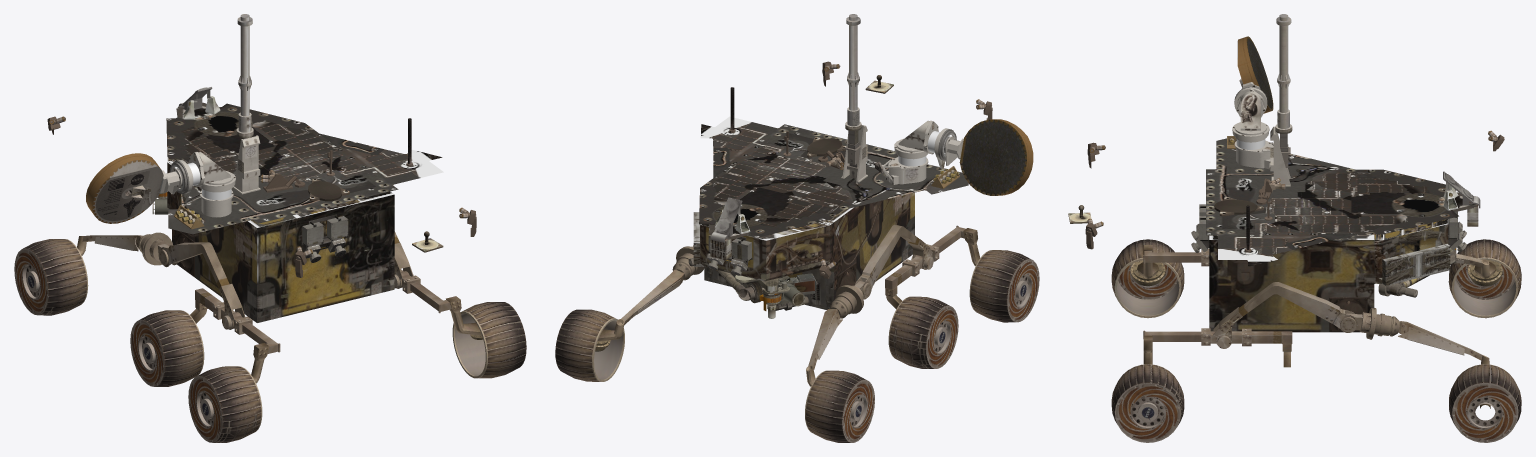
Rendered from mer-frame.glb.
3 renders of one model, left to right at view 1: azimuth 30°, elevation 25°; view 2: azimuth 150°, elevation 25°; view 3: azimuth 270°, elevation 25°, orthographic. The views are drawn at different scales.
Visible parts, largest first — view 1: Cube000_3, object 3, object 1; view 2: Cube000_3, object 3, object 1, Cube000_8; view 3: Cube000_3, object 3, object 1, Cube000_8.
Boxes of the visible parts, x1=… form: Cube000_3: x1=166, y1=102, x2=443, y2=322; object 3: x1=14, y1=230, x2=526, y2=442; object 1: x1=47, y1=14, x2=476, y2=277; Cube000_3: x1=693, y1=116, x2=968, y2=309; object 3: x1=555, y1=224, x2=1039, y2=442; object 1: x1=707, y1=14, x2=1033, y2=278; Cube000_8: x1=688, y1=258, x2=816, y2=318; Cube000_3: x1=1206, y1=138, x2=1478, y2=332; object 3: x1=1111, y1=239, x2=1521, y2=442; object 1: x1=1068, y1=14, x2=1504, y2=252; Cube000_8: x1=1378, y1=248, x2=1456, y2=297.
Bounding box in the file's own units: 2.45 × 2.24 × 2.72.
Materials: 5 (4 with a texture image).
